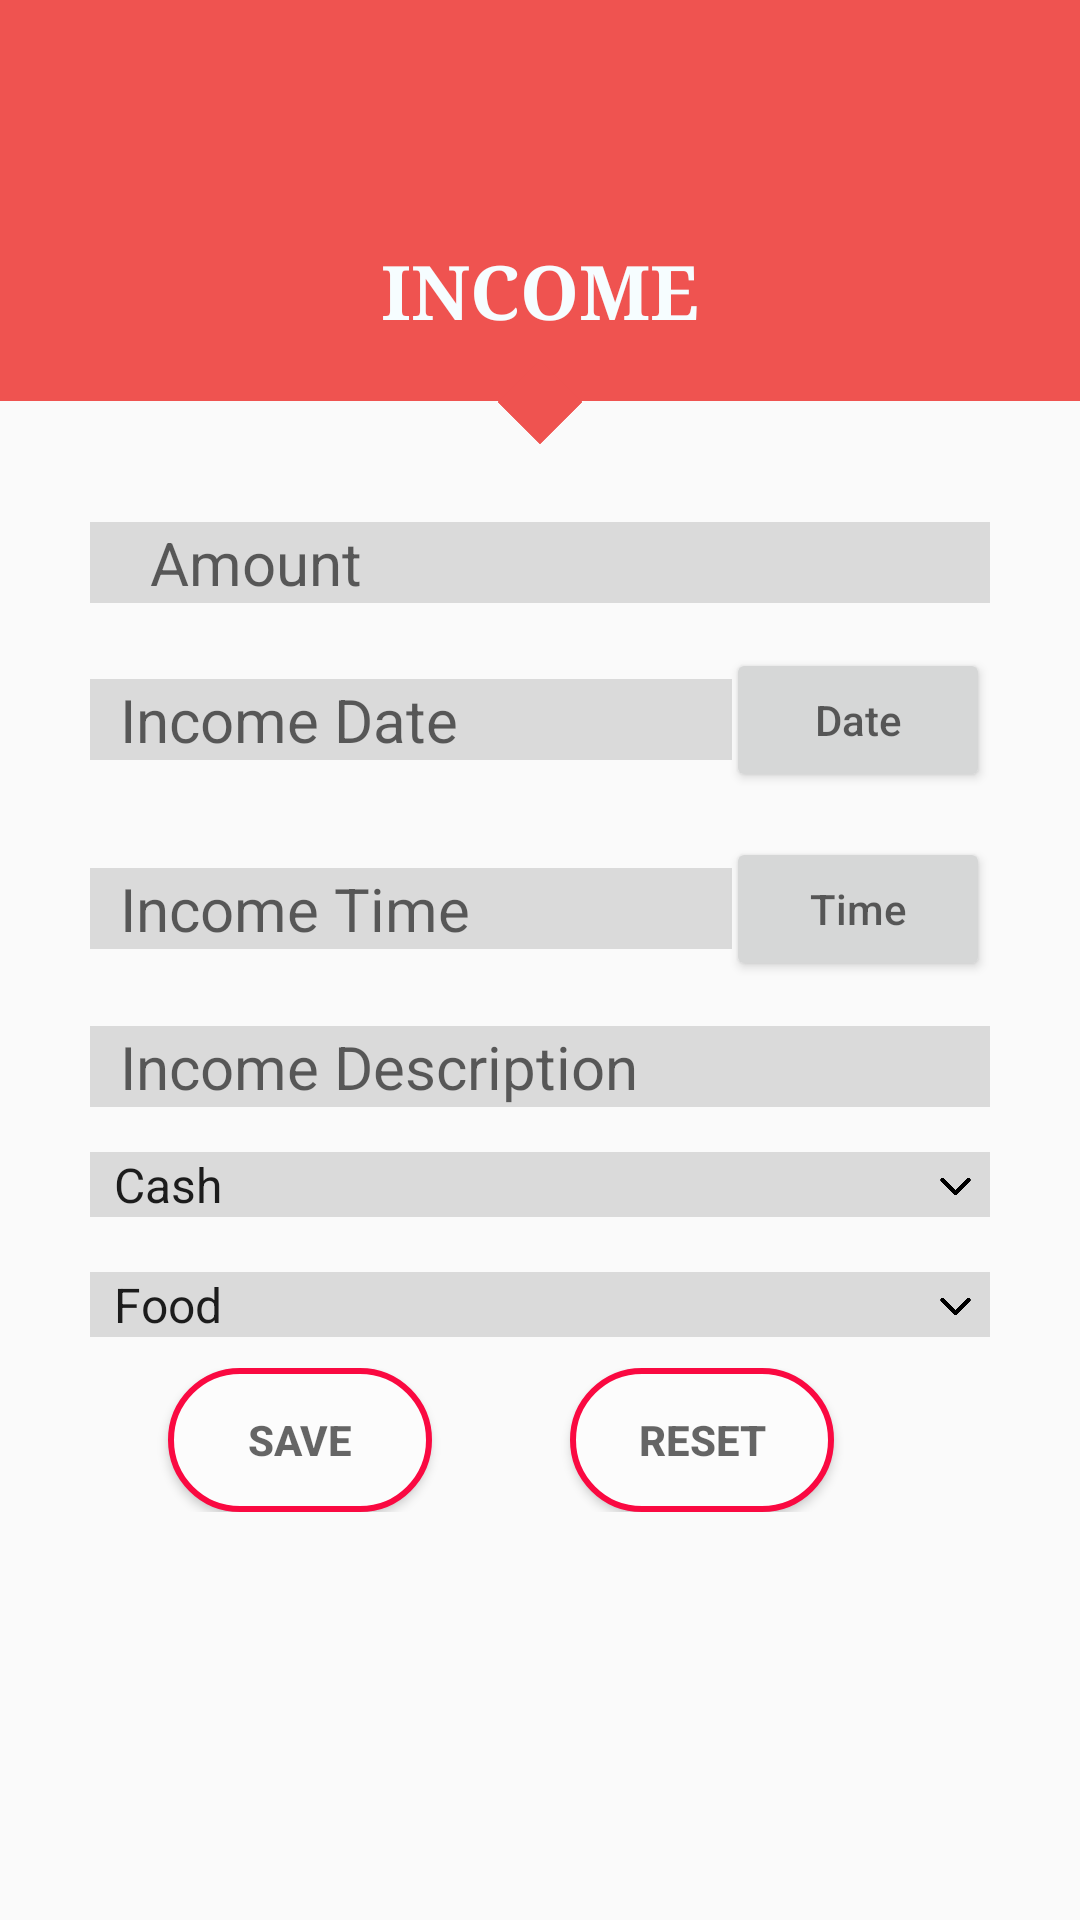

Screen size 1080px x 1920px. Icon name, then its box in pixels as (x1, y1, x2, y2):
drop: (921, 1155, 990, 1217), (921, 1275, 990, 1337)
